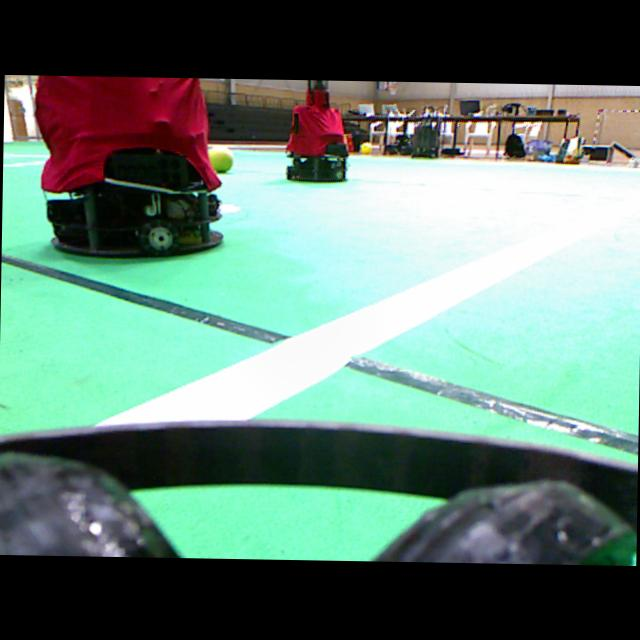ball: (208, 146, 233, 172), (359, 142, 372, 154)
robot: (410, 123, 438, 156)
